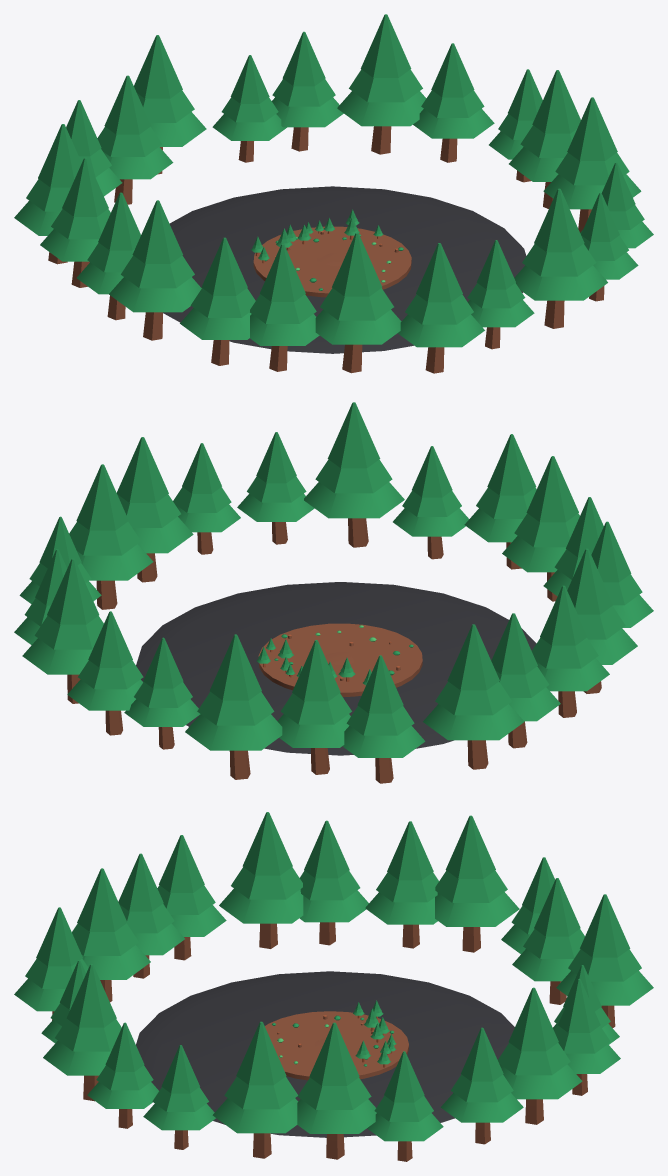
File: silk_widow.glb
3 renders of one model, top to bottom at view 1: azimuth 30°, elevation 25°; view 2: azimuth 150°, elevation 25°; view 3: azimuth 270°, elevation 25°, orthographic. The views are drawn at different scales.
Visible parts, largest first — view 1: SilkWidowGround; view 2: SilkWidowGround; view 3: SilkWidowGround.
Boxes of the visible parts, left/top/right/bottom form: SilkWidowGround: left=14, top=14, right=653, bottom=373; SilkWidowGround: left=14, top=402, right=653, bottom=783; SilkWidowGround: left=14, top=812, right=653, bottom=1161.
Size of the model in its own units: 44.65 by 11.9 by 48.64.
Materials: 1 (1 with a texture image).
